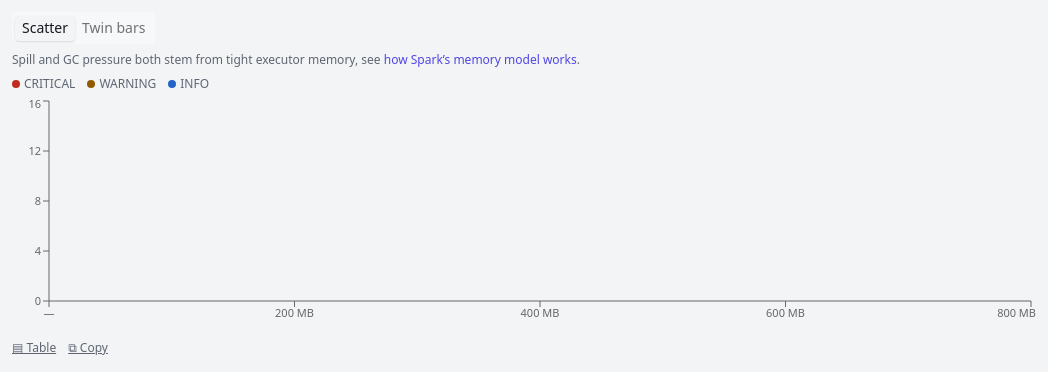
Test: toggling the view switch swaps which chart region is shown
Click the tab "Twin bars".
click(114, 28)  # box [75,16,152,40]
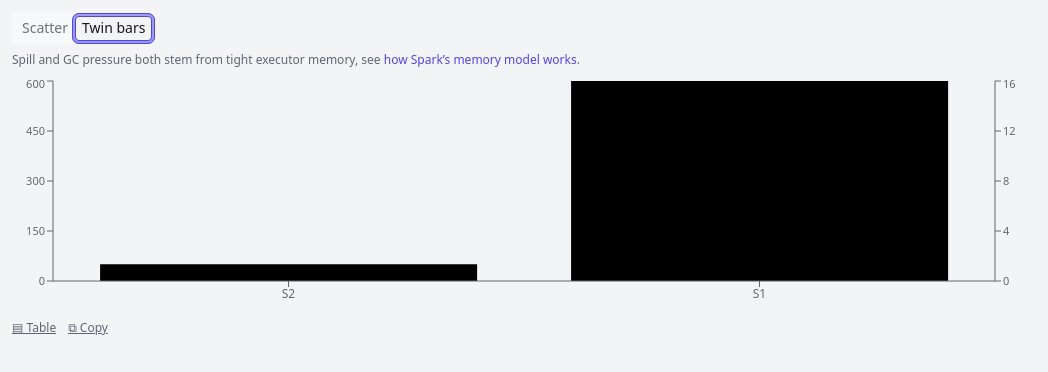
Result: the picture named "by stage" is shown
